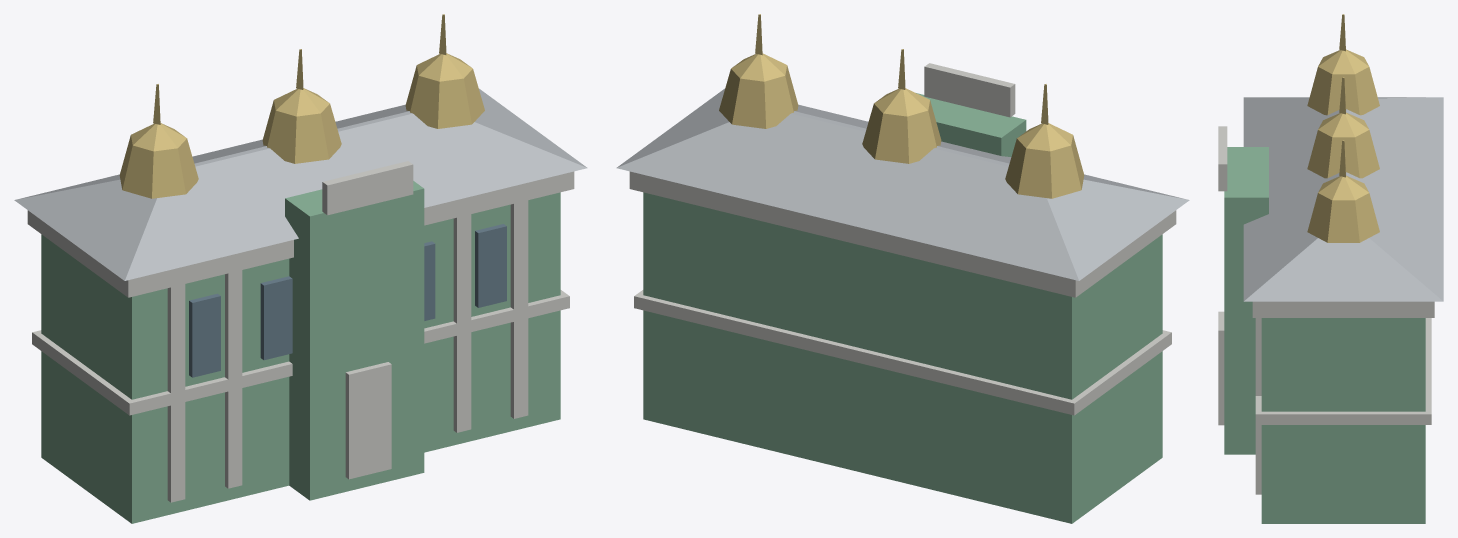
Rendered from national-hermitage.glb.
The picture shows the model from 3 angles, left to right: view 1: azimuth 30°, elevation 25°; view 2: azimuth 150°, elevation 25°; view 3: azimuth 270°, elevation 25°; orthographic projection. The views are drawn at different scales.
Parts seen in each view (by area): view 1: LOD0; view 2: LOD0; view 3: LOD0.
Part boxes in pixels (<box>): LOD0: <box>14,14,587,523</box>; LOD0: <box>616,14,1189,523</box>; LOD0: <box>1218,14,1443,523</box>.
Size of what is drawn, in the model's own units: 0.324 by 0.26 by 0.151.
